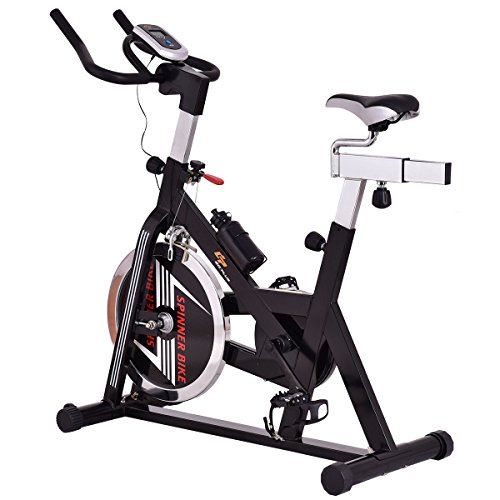gym_bike: (44, 14, 457, 495)
